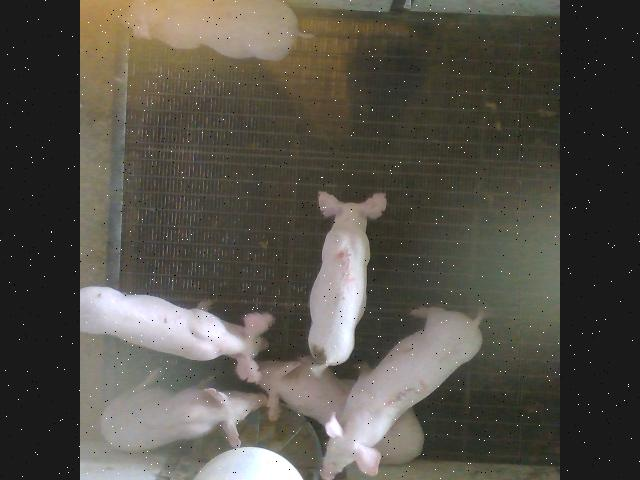pig-3: (322, 306, 480, 479)
pig-5: (309, 191, 385, 371)
